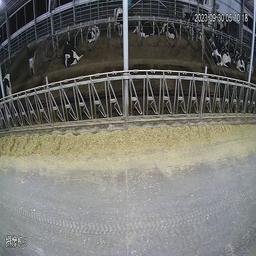cow: (209, 33, 230, 69), (60, 35, 82, 68), (183, 11, 197, 41), (231, 43, 245, 72), (113, 7, 125, 37), (161, 18, 177, 40), (136, 21, 154, 38), (86, 25, 100, 43)
